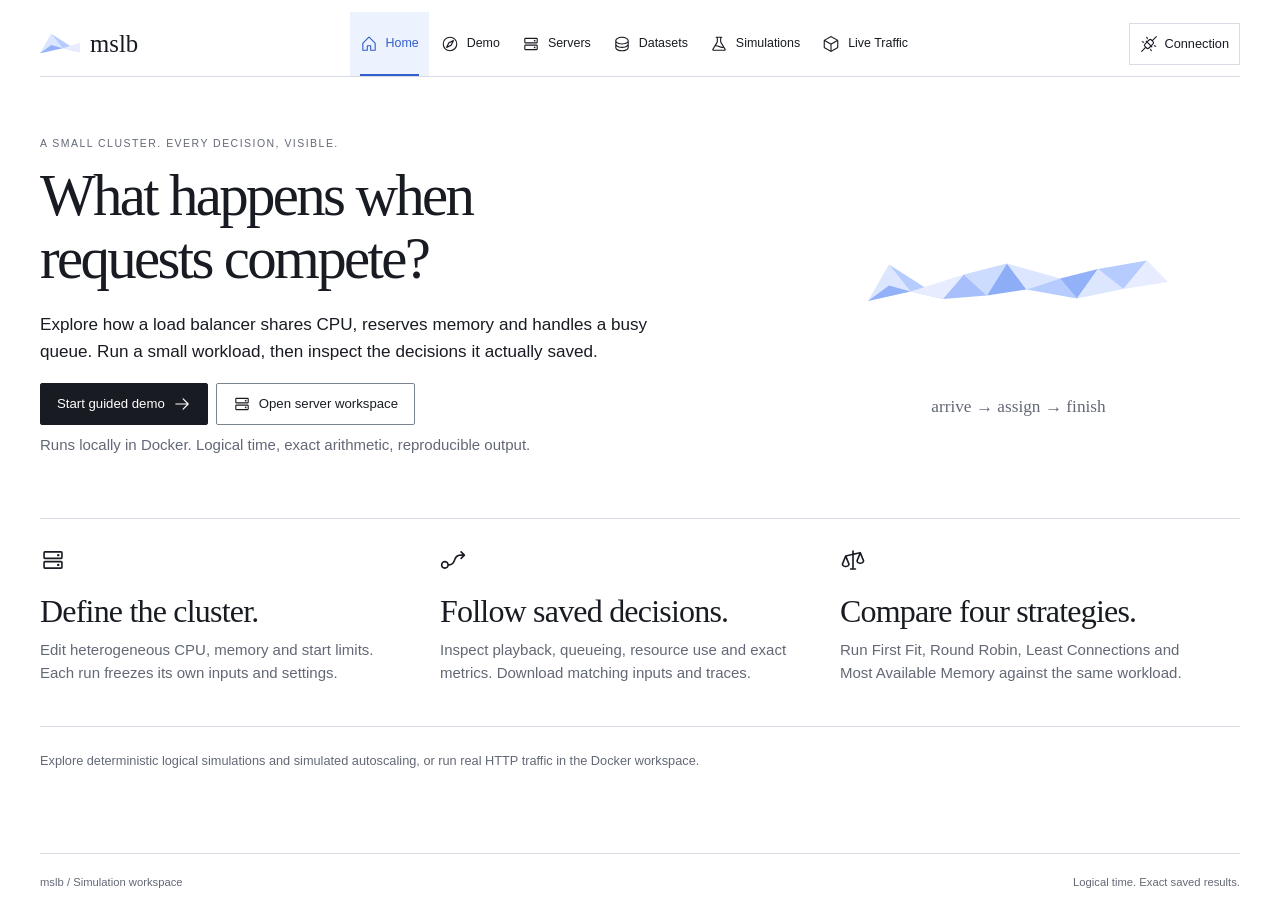
Test: allows correction after a definitive Docker validation refusal
Click the button "Datasets". click: (650, 44)
box: [603,12,698,76]
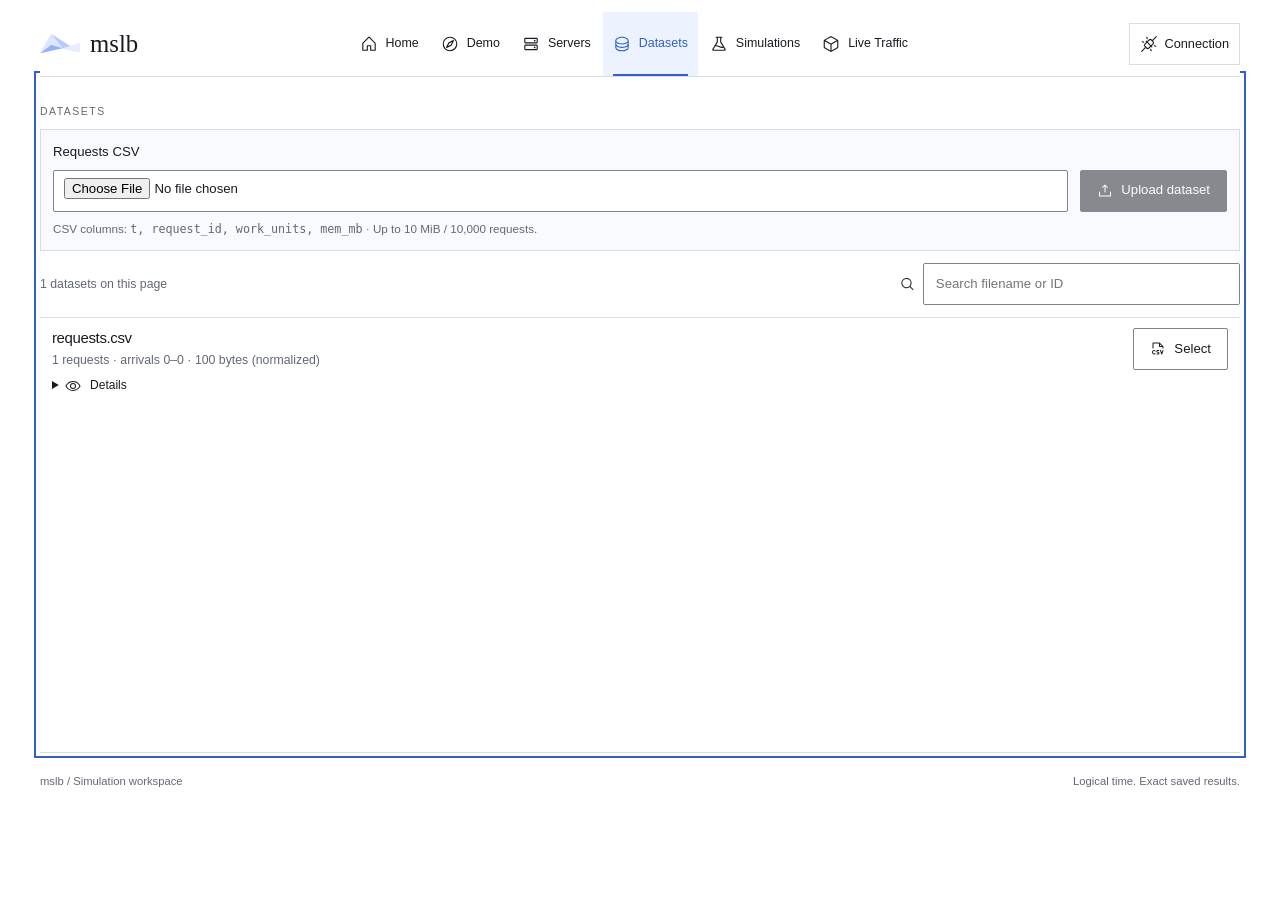
Click the button with aria-label "Select requests.csv". click: (1181, 349)
box: [1133,328,1228,370]
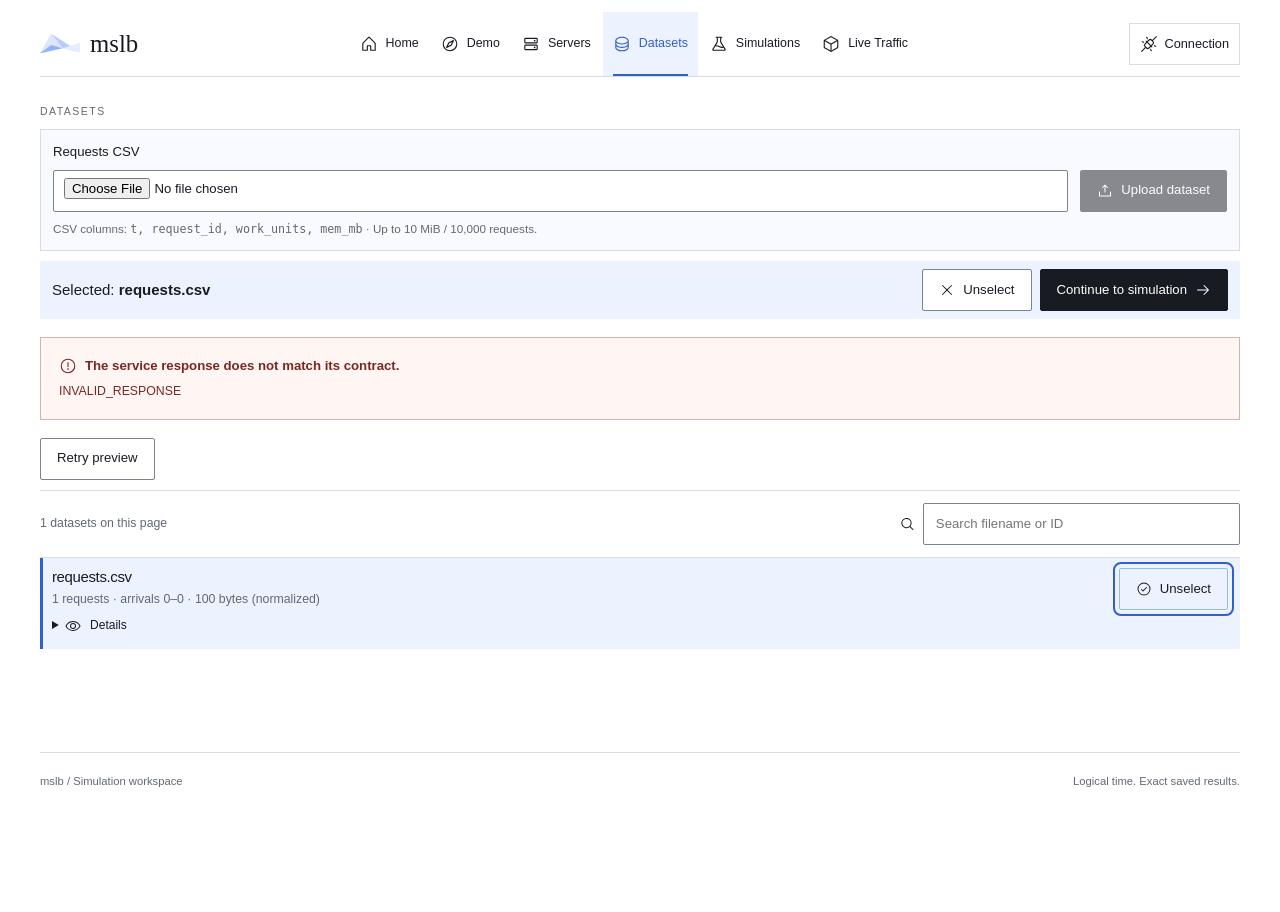
Click the button "Live Traffic". click: (865, 44)
box: [812,12,918,76]
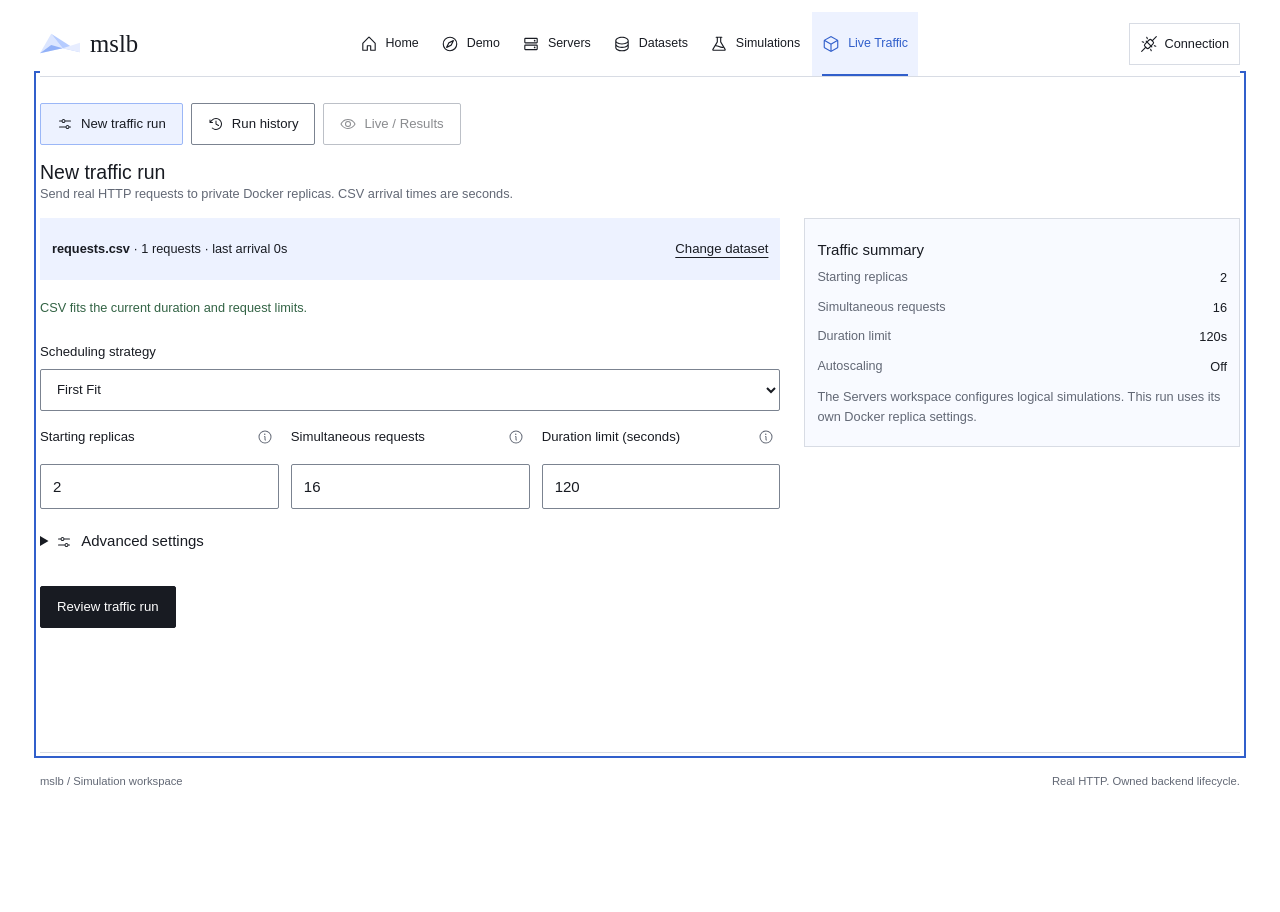
Click the button "Review traffic run". click: (108, 608)
box: [40,586,176,628]
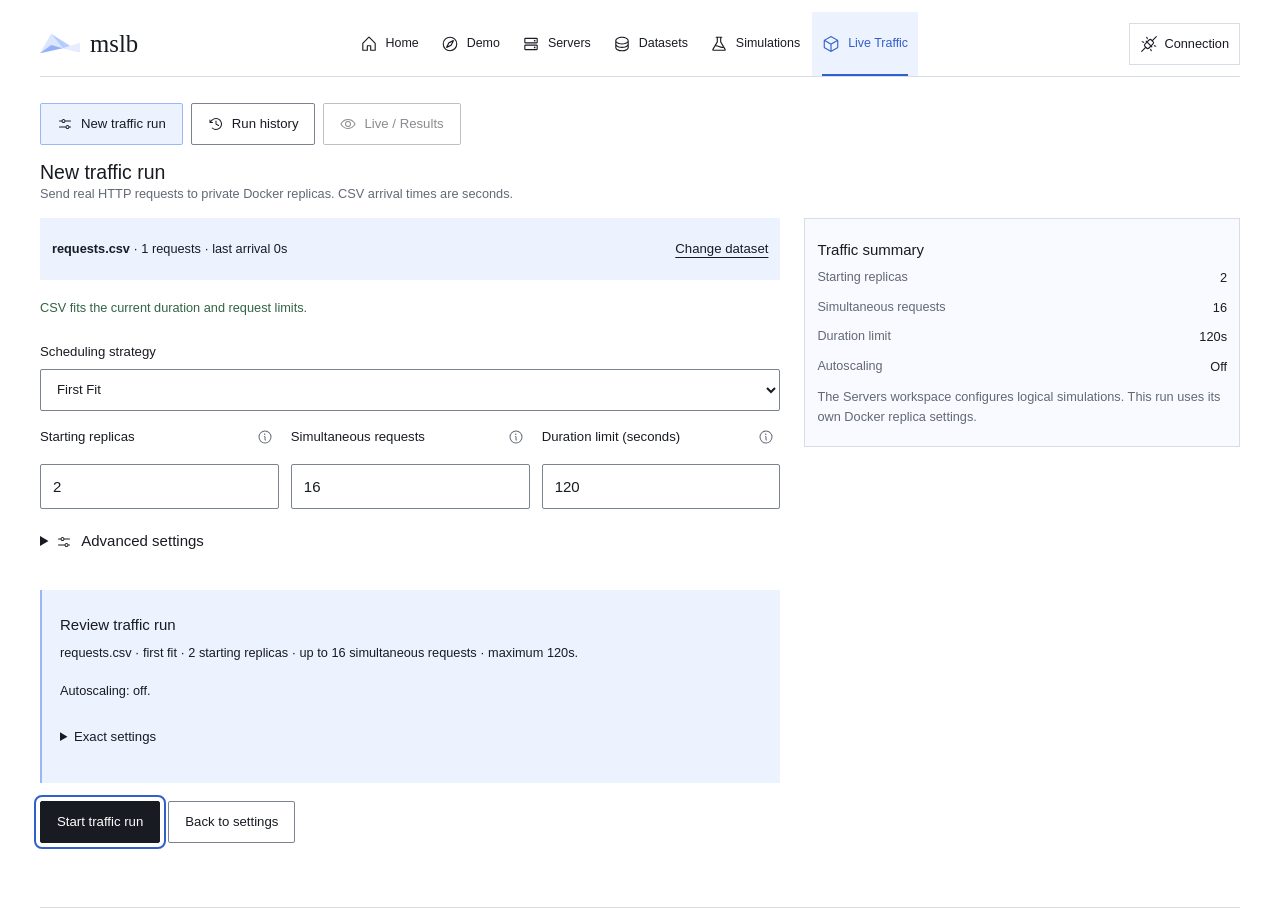
Click the button "Start traffic run". click: (100, 822)
box: [40,801,160,843]
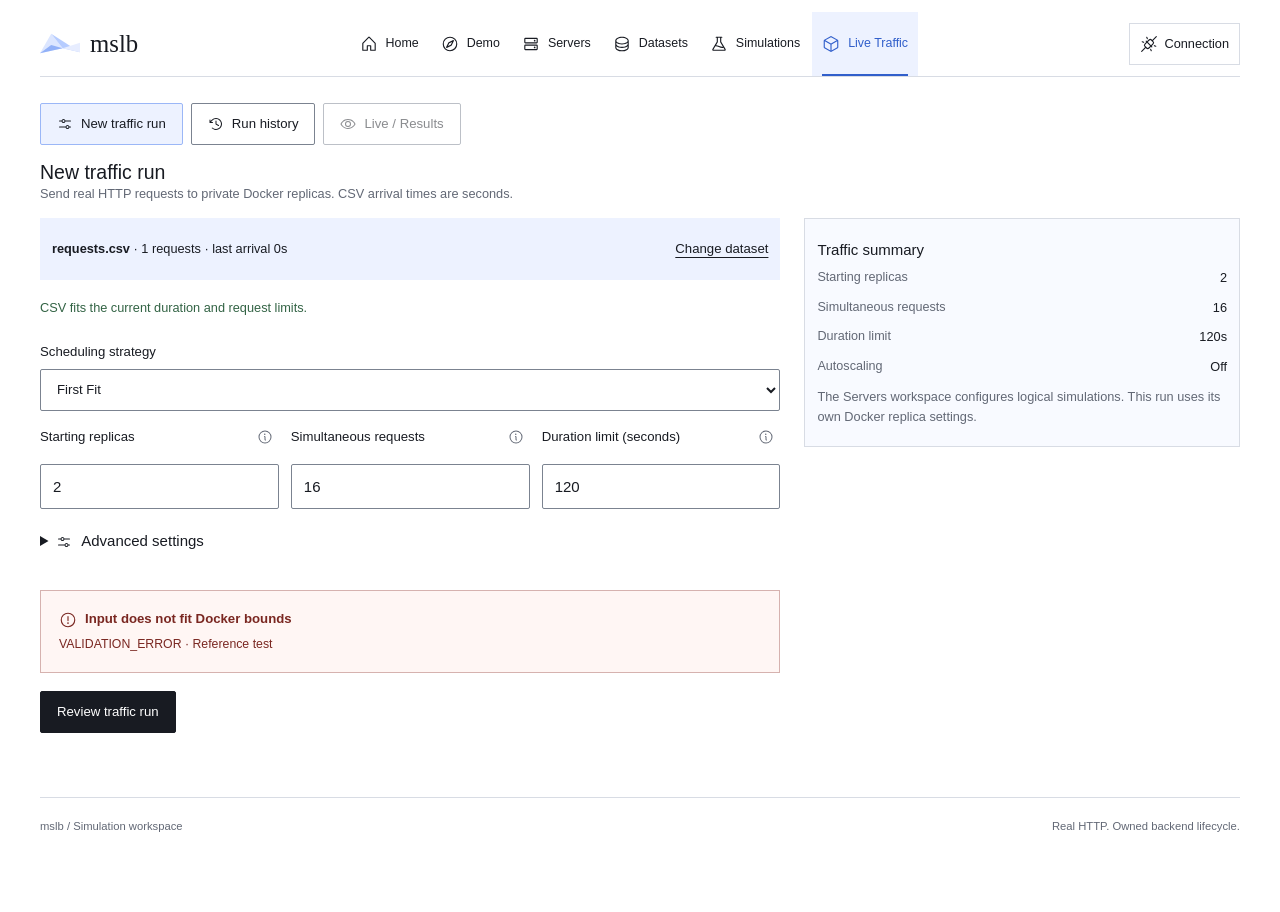
Result: the element labelled "Starting replicas" is enabled at [40,342,780,572]
Result: the message "Input does not fit Docker bounds VALIDATION_ERROR · Reference test" is shown at [40,590,780,673]
